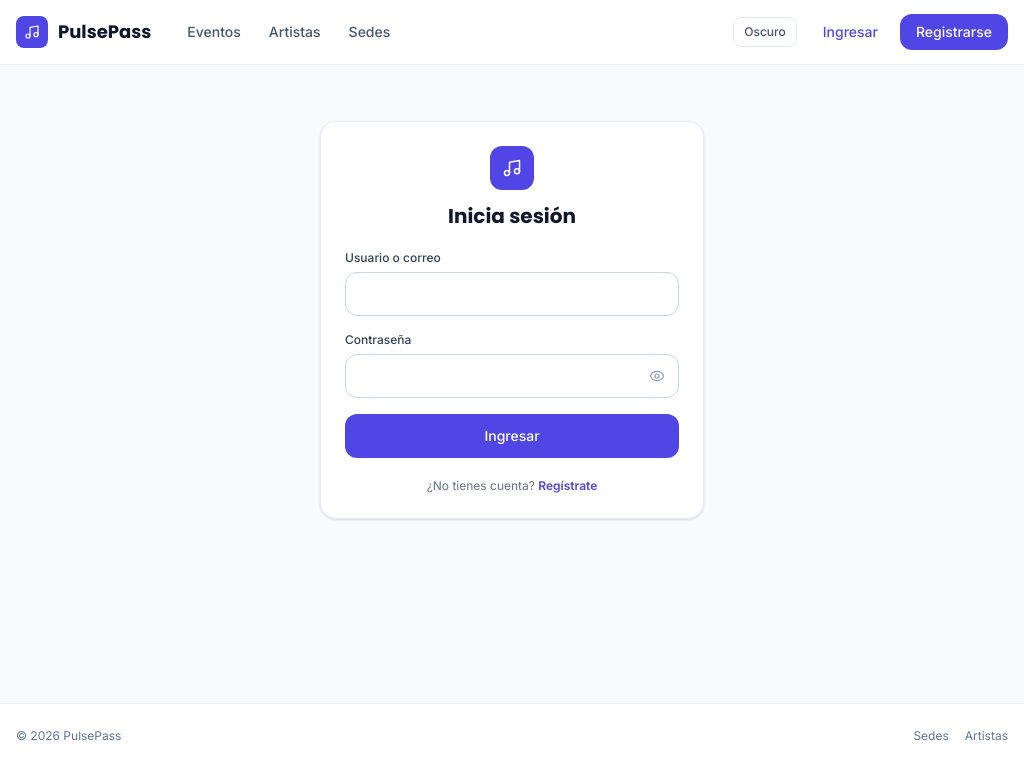
Test case: 21.2 Autenticación y guardas (TEST-FE-AUTH-*) › TEST-FE-AUTH-002: login 401 muestra "Credenciales inválidas"
Type "andrea" into the field labelled "Usuario o correo" at (512, 294), box [345,272,679,316]
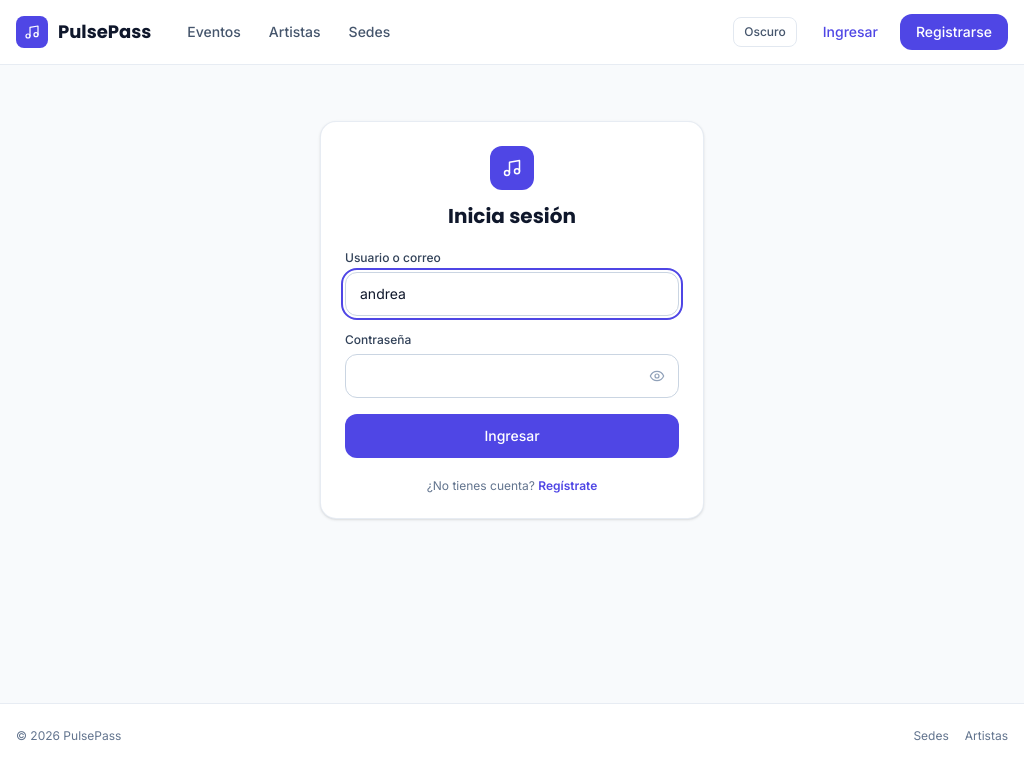
Type "incorrecta" into the password field labelled "Contraseña" at (512, 376), box [345,354,679,398]
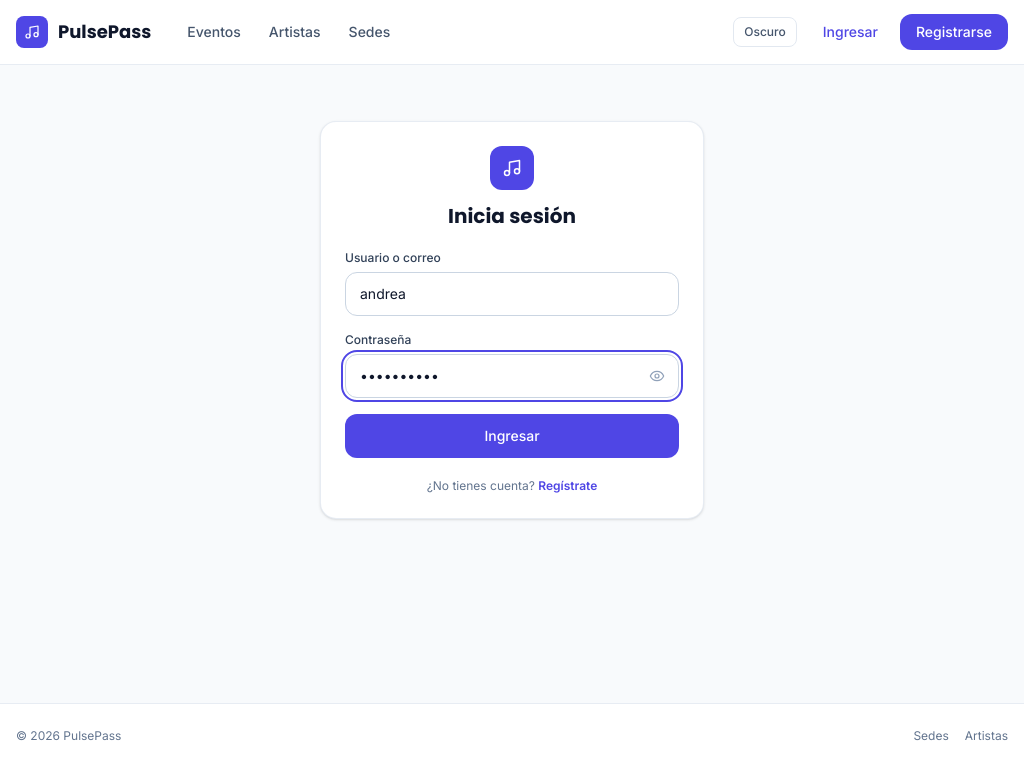
Click the button "Ingresar" at (512, 436), box [345,414,679,458]
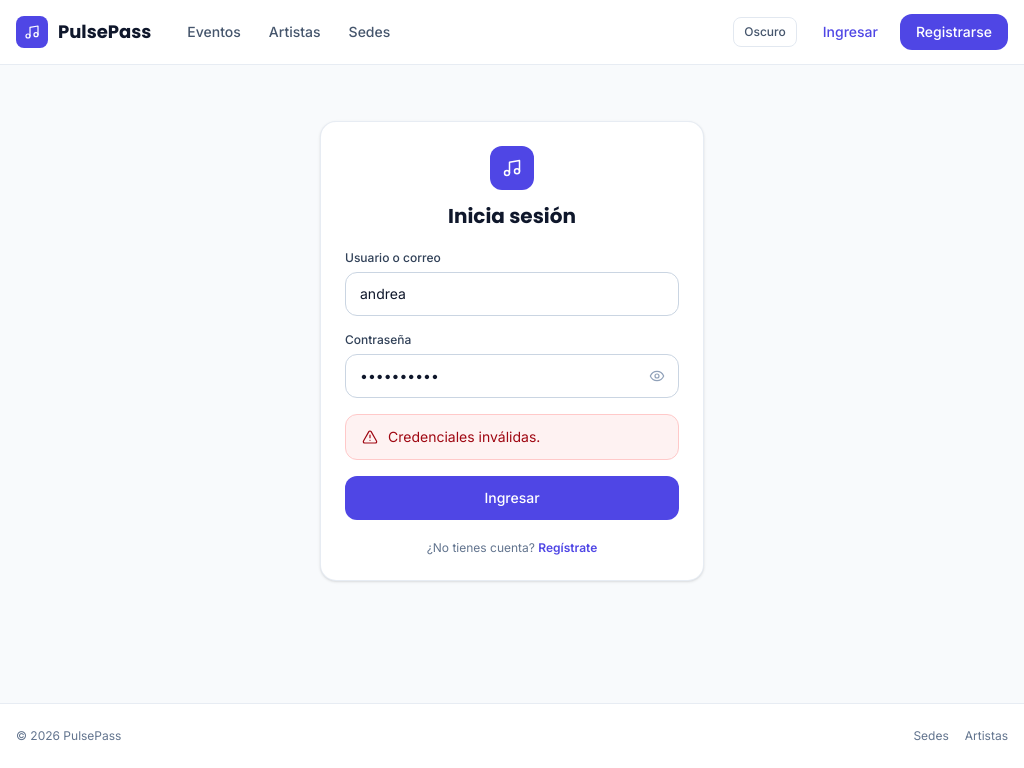
Now the message shows "Credenciales inválidas", box [388,428,540,445]
